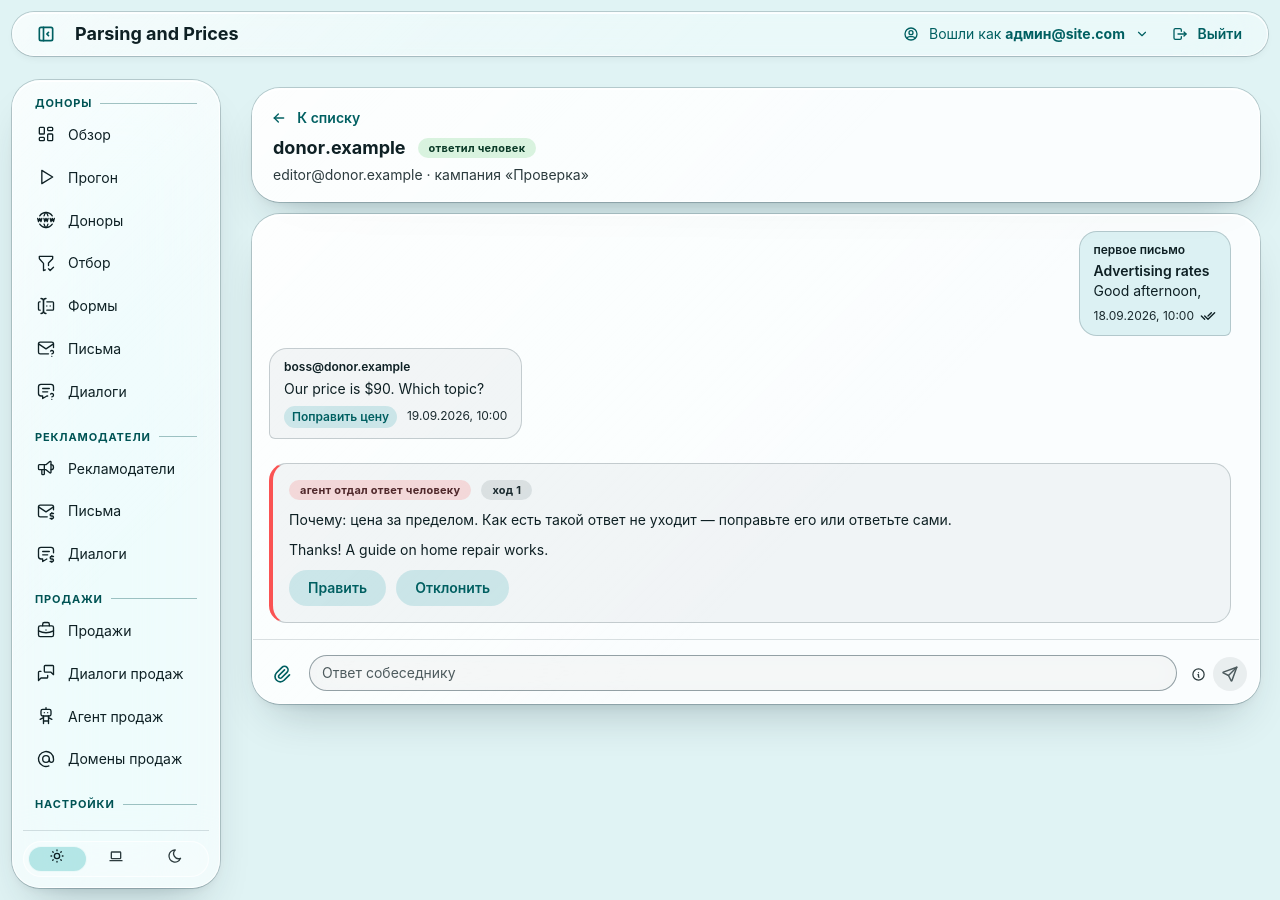
Test: плашка черновика агента › A4: отданный человеку — розой, без «как есть», прежний текст правкой не уходит
Expected: the heading "donor.example" is shown, [273,135,406,161]
Expected: the text "агент отдал ответ человеку" is shown, [300,481,460,499]
Click the button "Править" at (338, 588), box [289,570,386,606]
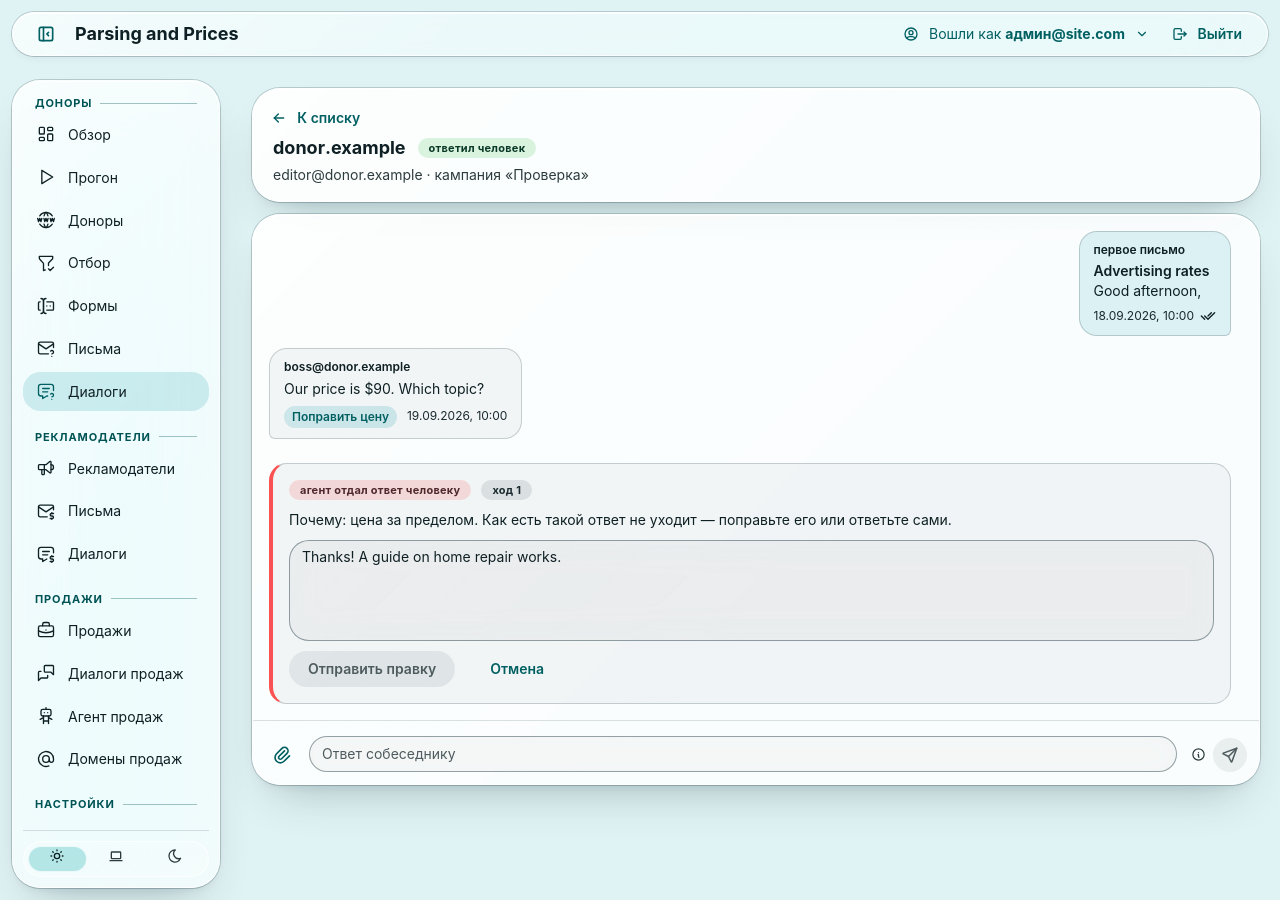
Expected: the button "Отправить правку" is disabled, [289,651,455,687]
Type " Or $80." into the text box named "Текст ответа по черновику" at (752, 590), box [289,540,1214,641]
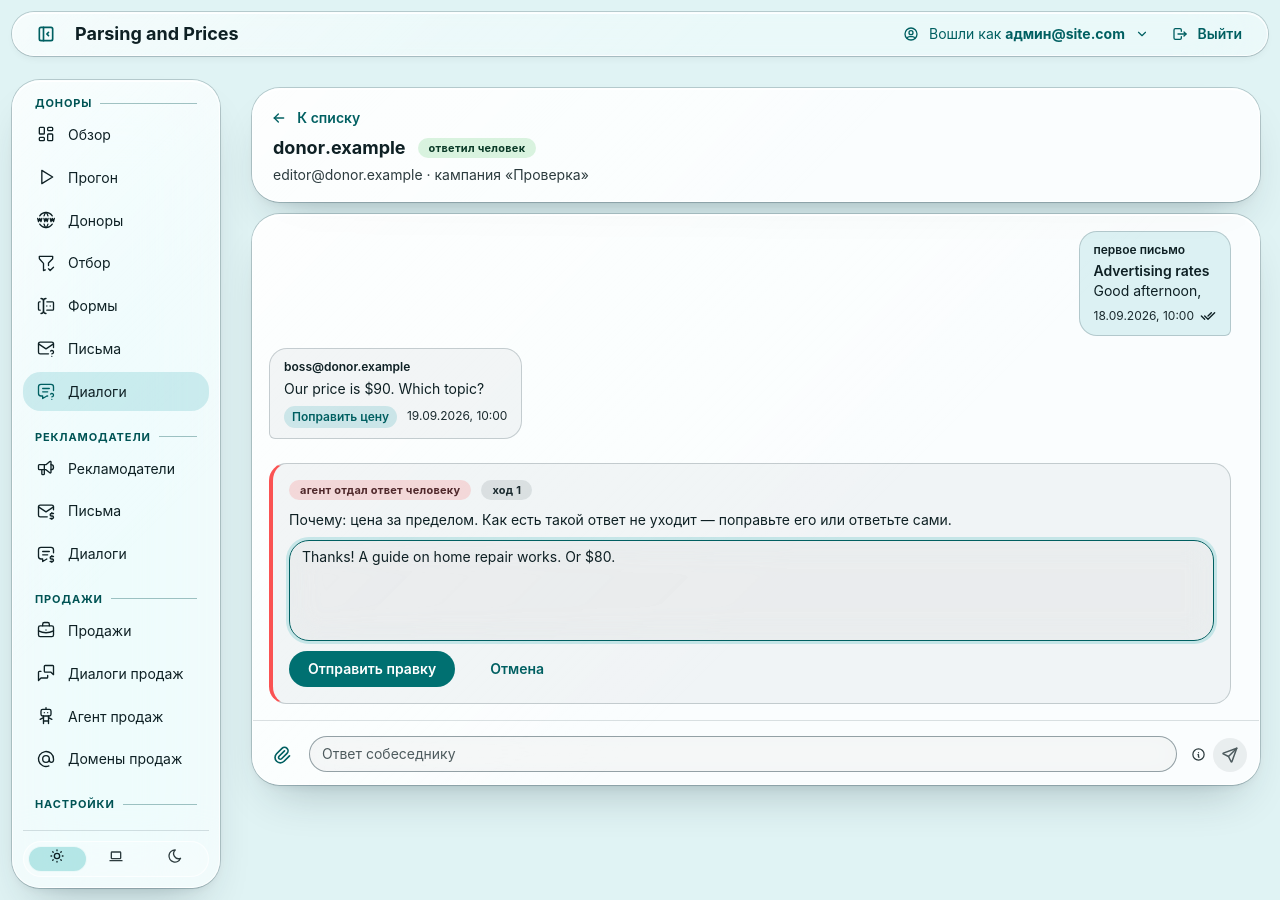
Expected: the button "Отправить правку" is enabled, [289,651,455,687]
